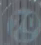Speed limit: (5, 4, 38, 44)
